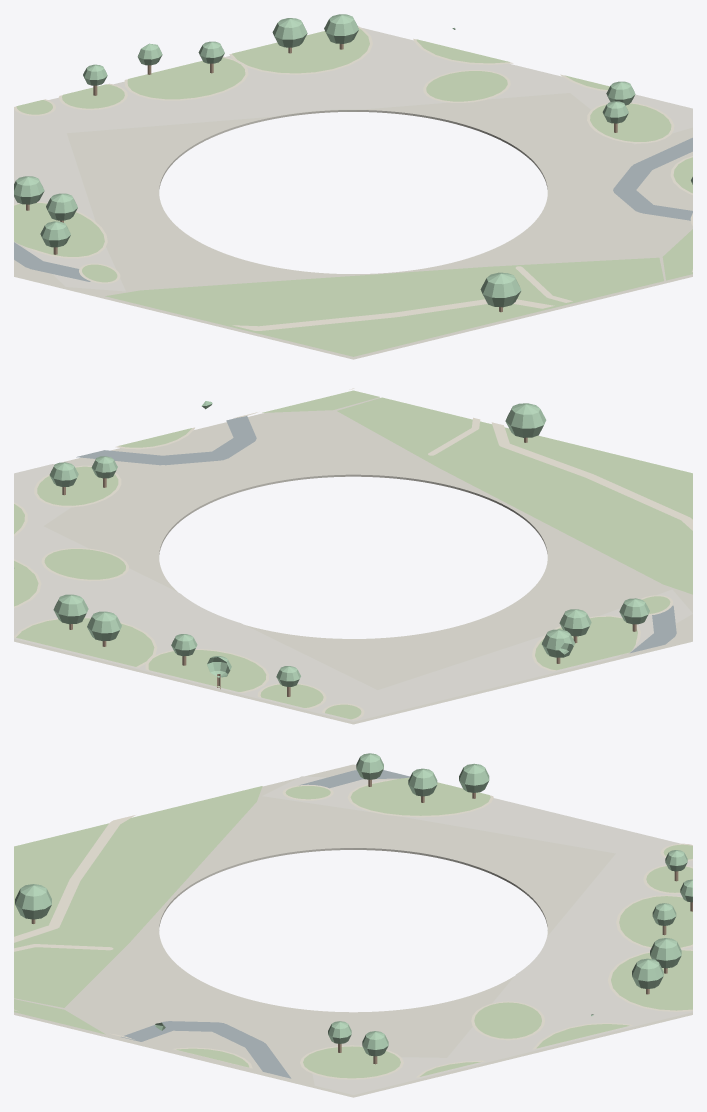
File: surround-P10.glb
The picture shows the model from 3 angles, top to bottom: view 1: azimuth 30°, elevation 25°; view 2: azimuth 150°, elevation 25°; view 3: azimuth 270°, elevation 25°; orthographic projection.
Parts seen in each view (by area): view 1: P10_ground, P10_lawn, P10_paving, P10_leaf, P10_path, P10_road; view 2: P10_ground, P10_lawn, P10_paving, P10_leaf, P10_path, P10_road; view 3: P10_ground, P10_lawn, P10_paving, P10_leaf, P10_path, P10_road.
Part boxes in pixels (x1,y1,x2,y2): P10_ground: (14,93,692,359); P10_lawn: (14,28,692,356); P10_paving: (14,27,692,291); P10_leaf: (14,14,692,307); P10_path: (14,26,692,330); P10_road: (14,137,692,281); P10_ground: (14,397,692,724); P10_lawn: (14,390,692,719); P10_paving: (14,464,692,721); P10_leaf: (14,401,649,686); P10_path: (14,388,692,720); P10_road: (76,416,676,653); P10_ground: (14,764,692,1097); P10_lawn: (14,777,692,1078); P10_paving: (262,776,692,1094); P10_leaf: (15,753,692,1056); P10_path: (14,779,692,1079); P10_road: (121,770,410,1078).
Bounding box in the file's own units: 16.16 × 0.92 × 14.
